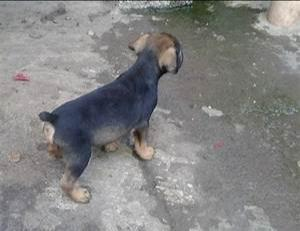dog: (37, 30, 183, 203)
